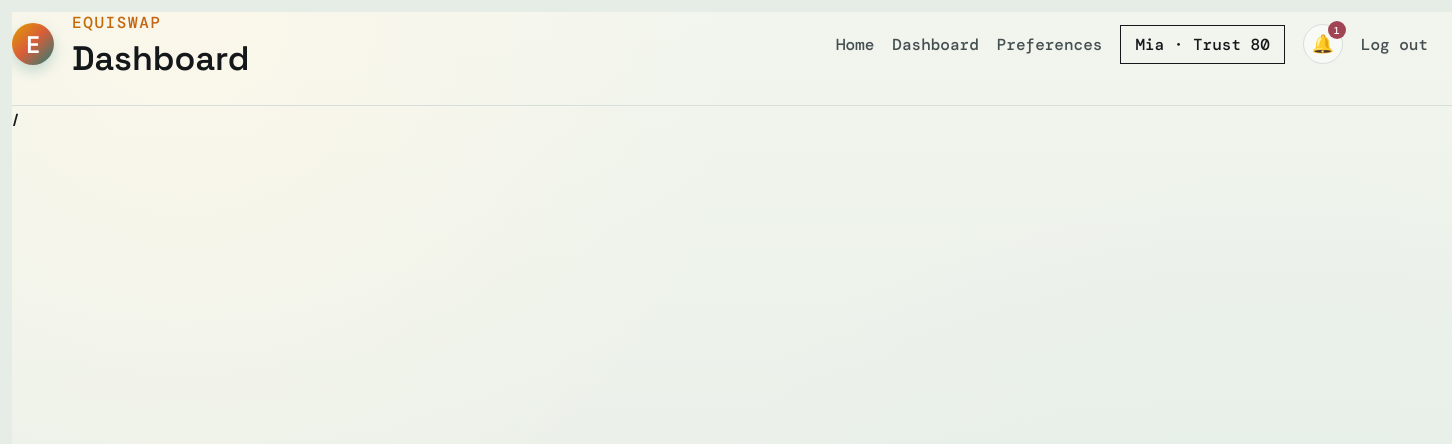
Test: TopNav › opens the swap status section from a swap proposal notification
The image size is (1452, 444).
What coordinates should you click on to do the following:
click the button named "Notifications"
I would click on:
 (1323, 44)
Its box is [1303,24,1343,64].
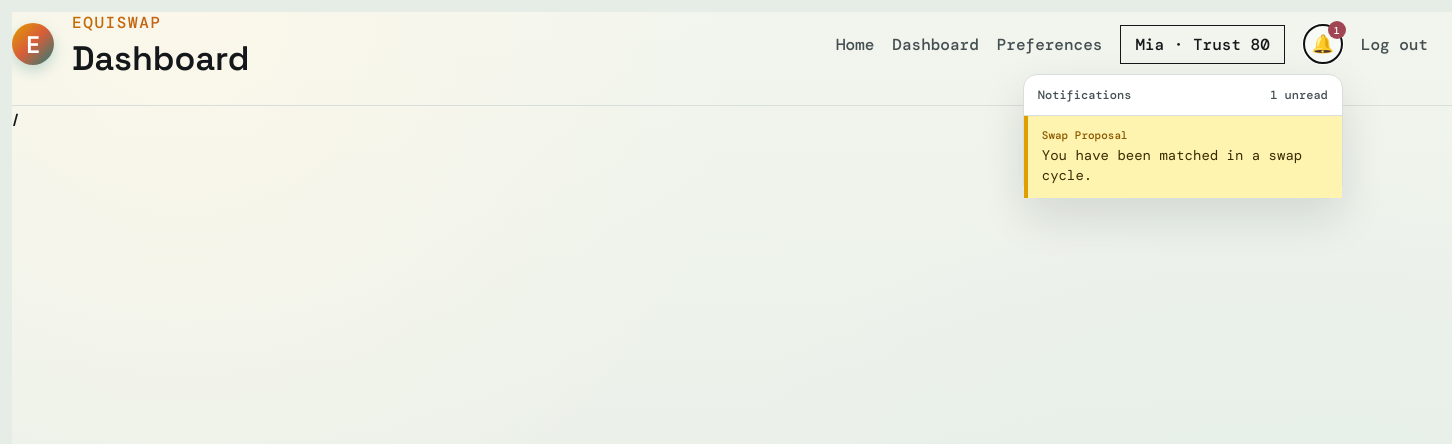
What coordinates should you click on to do the following:
click the text "You have been matched in a swap cycle."
I would click on:
 (1185, 166)
Its box is [1042,146,1328,186].
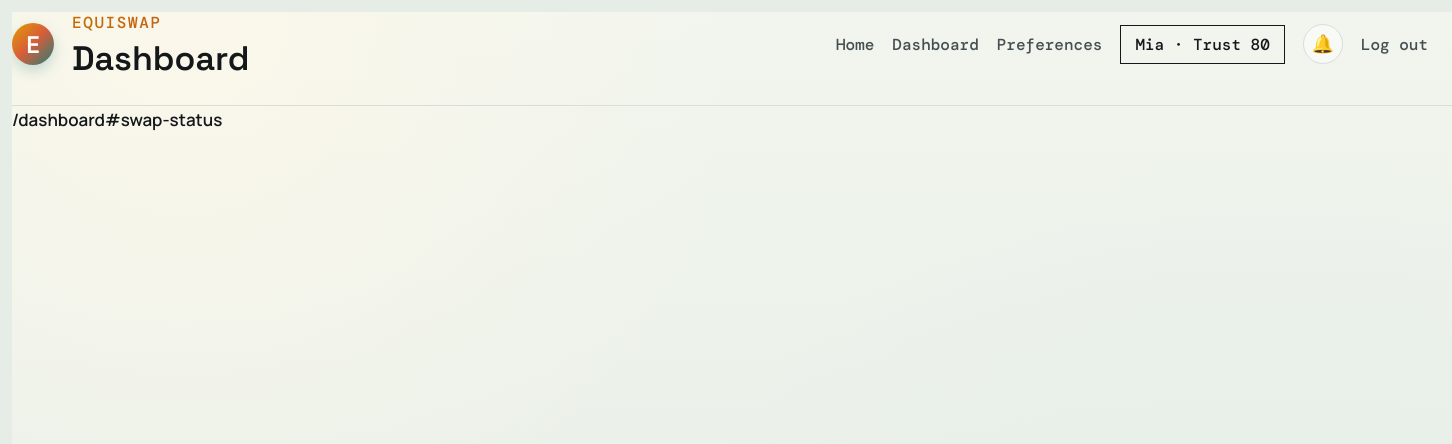
Now the text with test id "current-location" reads "/dashboard#swap-status", box [12,108,222,131]
